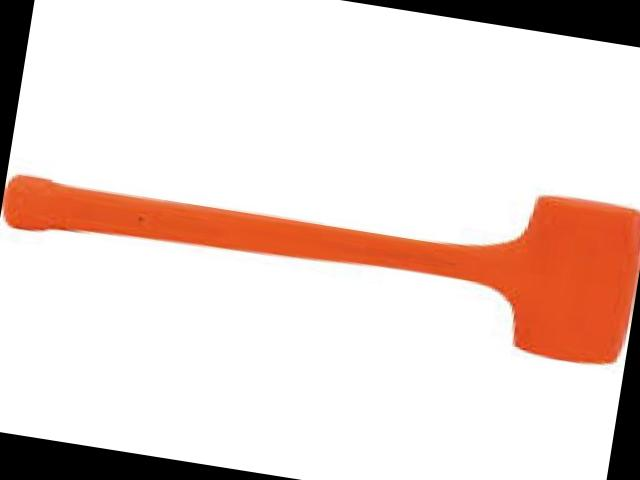hammer: (0, 109, 640, 368)
